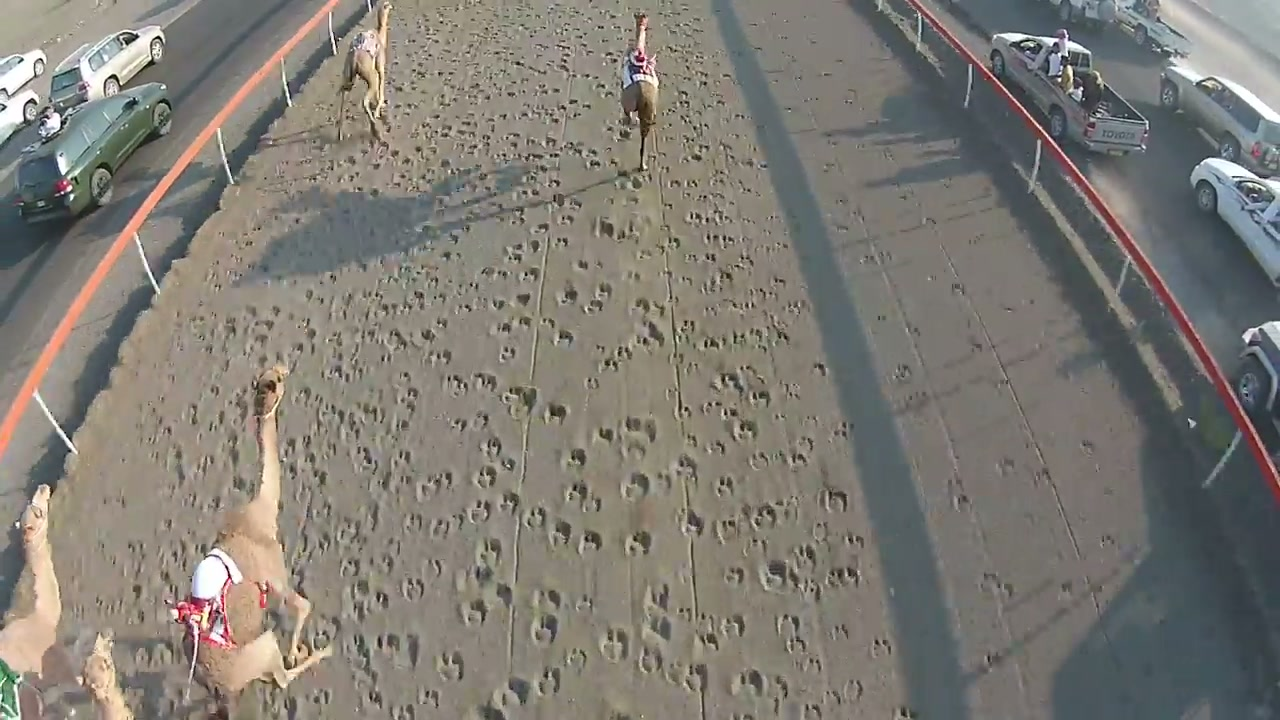animal_foot_print: (151, 0, 868, 719), (297, 0, 867, 719), (517, 236, 686, 703), (453, 538, 513, 626), (529, 587, 563, 647), (664, 660, 708, 693), (492, 677, 532, 713), (564, 480, 602, 512), (730, 668, 768, 699), (598, 627, 629, 662), (758, 560, 790, 592), (641, 612, 673, 643), (530, 614, 559, 647), (622, 416, 657, 442), (435, 650, 464, 681), (620, 472, 651, 501), (643, 582, 671, 612), (460, 599, 489, 627), (637, 643, 663, 674), (531, 587, 562, 613), (534, 668, 561, 697), (714, 517, 742, 544), (749, 504, 777, 531), (819, 488, 848, 513), (547, 519, 572, 548), (679, 509, 704, 537), (466, 498, 492, 524), (624, 531, 651, 556), (719, 613, 746, 638), (578, 529, 603, 555), (775, 613, 802, 637), (563, 648, 587, 675), (522, 505, 547, 530), (496, 492, 521, 515), (473, 466, 497, 489), (543, 402, 569, 423), (695, 632, 721, 653), (562, 448, 587, 469), (416, 688, 440, 708), (783, 637, 808, 655), (723, 566, 745, 586), (715, 475, 735, 497), (799, 702, 823, 719), (574, 594, 595, 613), (606, 710, 637, 719)
